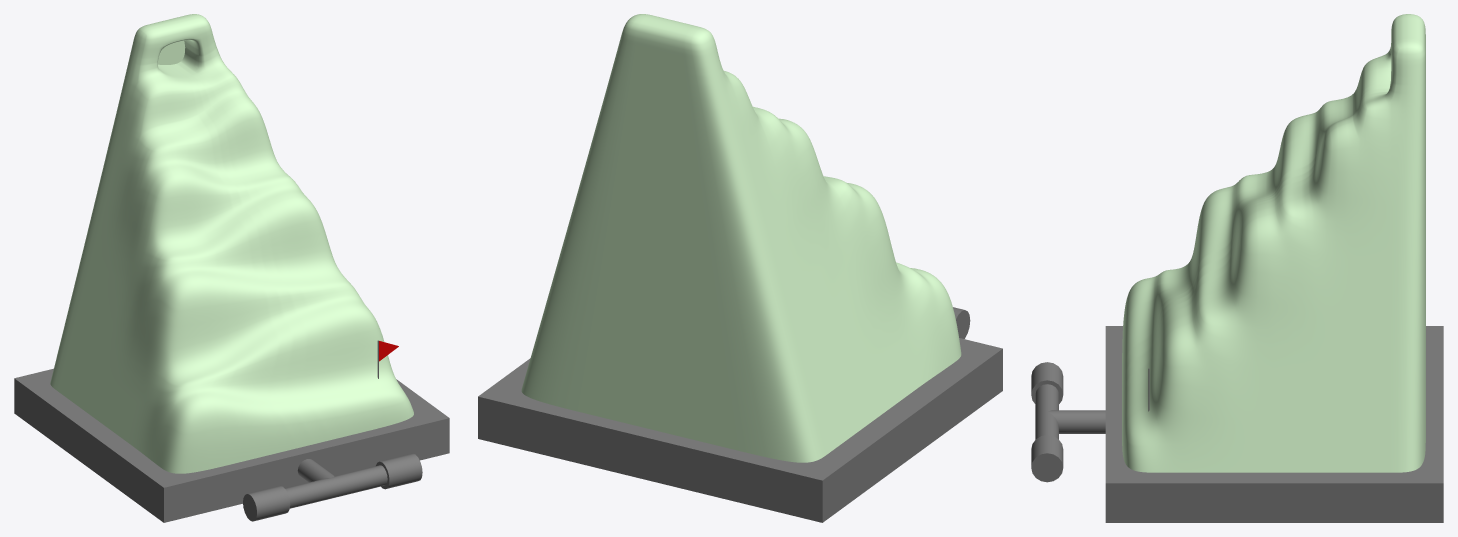
The model's file is gamu.fbx.
3 views of the same model, side by side, from view 1: azimuth 30°, elevation 25°; view 2: azimuth 150°, elevation 25°; view 3: azimuth 270°, elevation 25° (orthographic). The views are drawn at different scales.
Visible parts, largest first — view 1: pCube3; view 2: pCube3; view 3: pCube3.
Part boxes in pixels (<box>): pCube3: <box>14,14,449,522</box>; pCube3: <box>478,14,1002,522</box>; pCube3: <box>1031,14,1443,522</box>.
Bounding box in the file's own units: 14.05 × 17.31 × 15.55.
